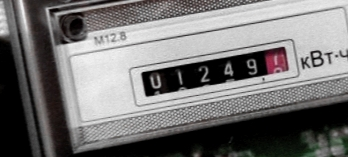0: (146, 69, 162, 91)
1: (171, 66, 184, 87)
2: (195, 63, 211, 84)
4: (220, 59, 233, 79)
7: (267, 47, 281, 68)
9: (242, 55, 258, 78)
screen: (119, 38, 298, 106)
